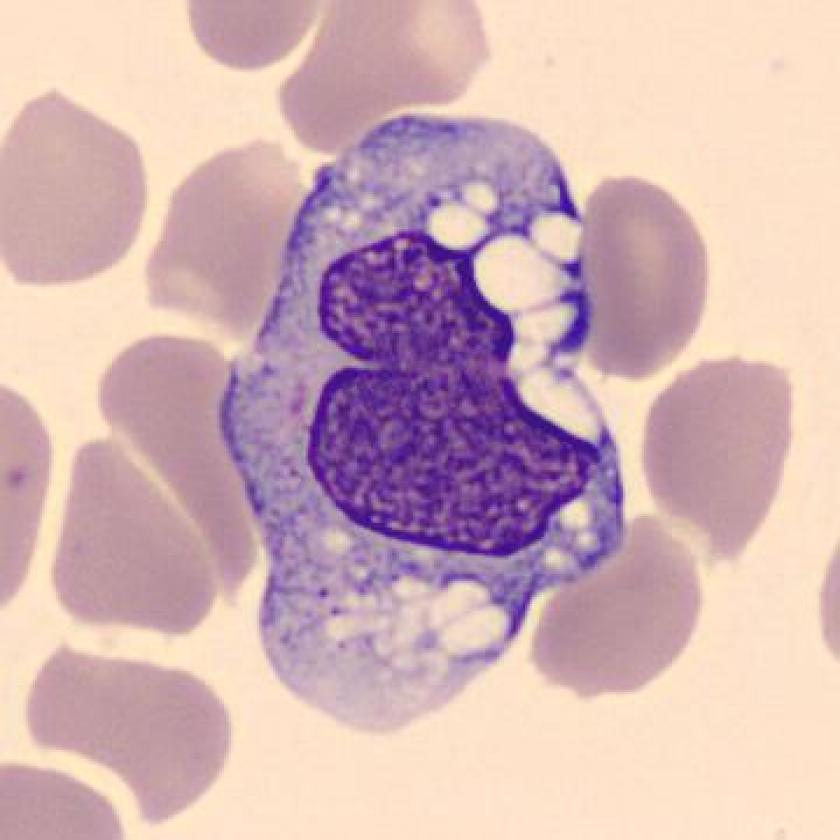monocyte: (207, 96, 641, 755)
